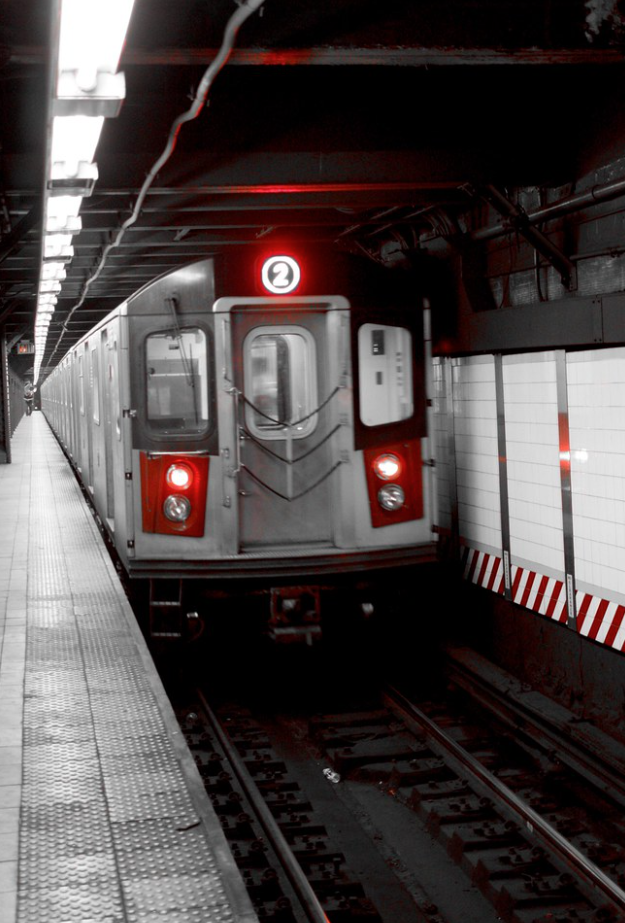train: (95, 244, 441, 587)
